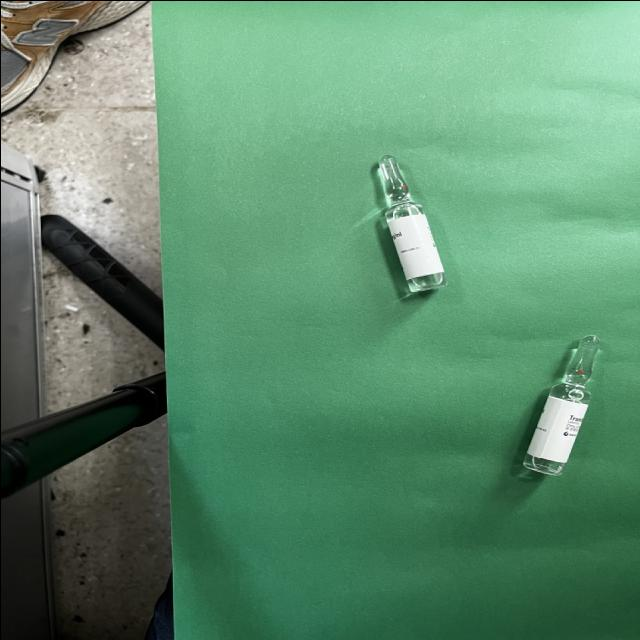Ampoules: (522, 332, 599, 474), (376, 154, 443, 292)
